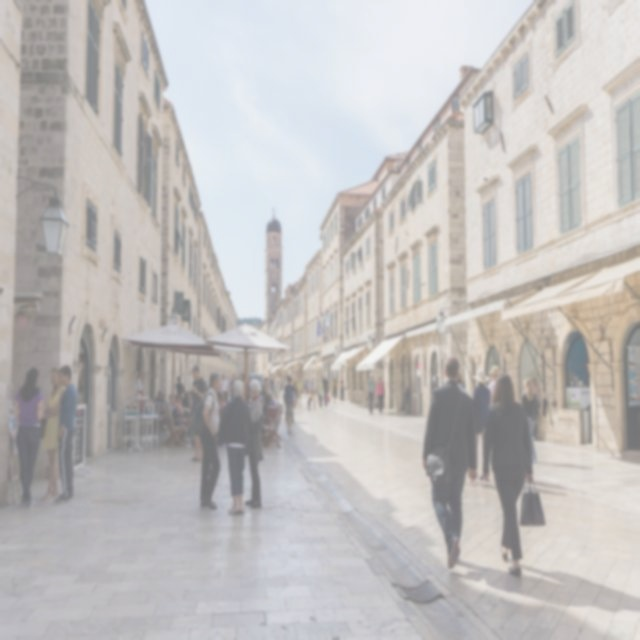pessoa: (422, 356, 479, 570), (480, 371, 534, 579), (217, 376, 253, 516), (12, 362, 45, 510), (36, 362, 68, 506), (192, 371, 222, 512), (54, 362, 80, 506), (242, 376, 266, 510), (150, 388, 192, 449), (470, 364, 492, 480), (518, 377, 541, 466), (189, 364, 208, 464), (240, 374, 282, 404), (282, 374, 296, 434), (486, 363, 504, 408), (283, 373, 295, 425), (135, 368, 145, 427), (374, 374, 386, 416), (260, 402, 278, 430), (456, 372, 474, 400), (366, 374, 377, 416), (308, 374, 318, 410), (174, 374, 186, 402), (318, 376, 326, 408), (216, 388, 227, 410), (292, 376, 299, 410), (219, 372, 229, 395), (296, 374, 302, 410), (322, 374, 328, 408), (315, 377, 322, 406), (302, 377, 310, 401), (332, 379, 337, 404), (483, 374, 493, 386), (232, 373, 236, 401), (340, 379, 344, 404), (529, 377, 536, 390), (227, 373, 230, 398), (498, 369, 505, 377), (306, 379, 309, 396)
